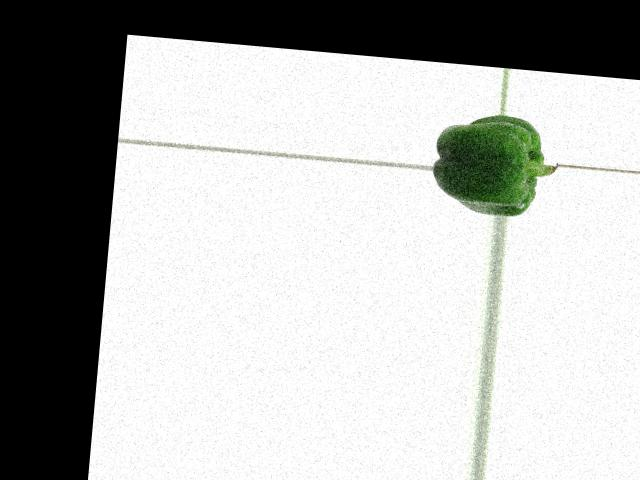bell_pepper: (429, 110, 559, 218)
